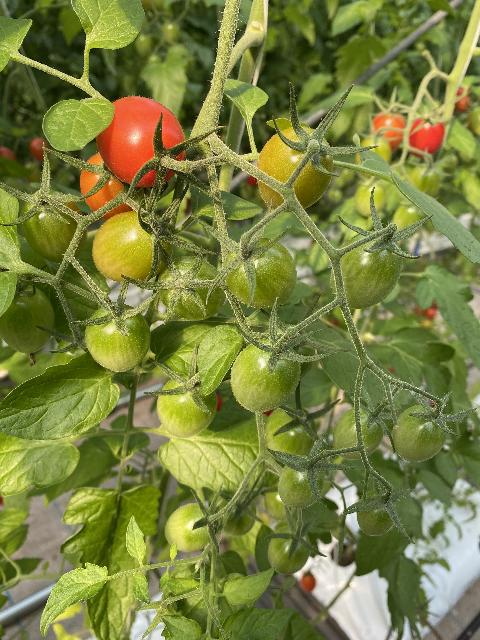l_fully_ripened: (96, 96, 185, 187)
l_green: (331, 230, 404, 309), (223, 236, 297, 310), (230, 337, 301, 413), (19, 189, 88, 263), (84, 303, 152, 372), (156, 256, 228, 320), (155, 376, 218, 440), (1, 286, 56, 354), (262, 404, 317, 463), (262, 323, 316, 383), (392, 405, 448, 462), (164, 502, 217, 554), (332, 407, 383, 460), (276, 454, 325, 509), (267, 524, 312, 575), (211, 492, 256, 537), (357, 488, 397, 537)
l_half_ripened: (258, 127, 335, 214), (92, 209, 172, 285), (80, 151, 136, 221)
